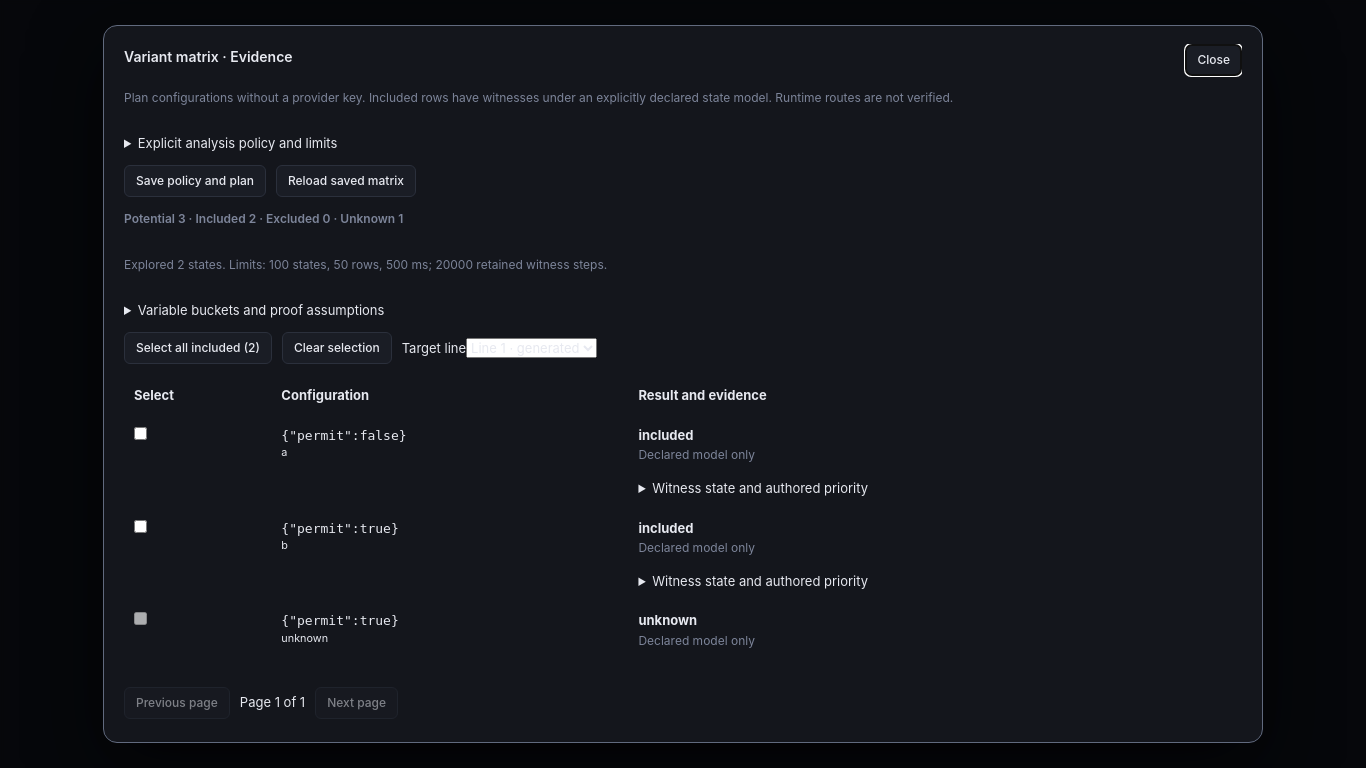
it: keeps a source conflict visible and never prepares generation after failed materialization
The image size is (1366, 768).
Click the button "Select all included (2)": coordinates (198, 348) [124,332,272,364]
(page scrolled)
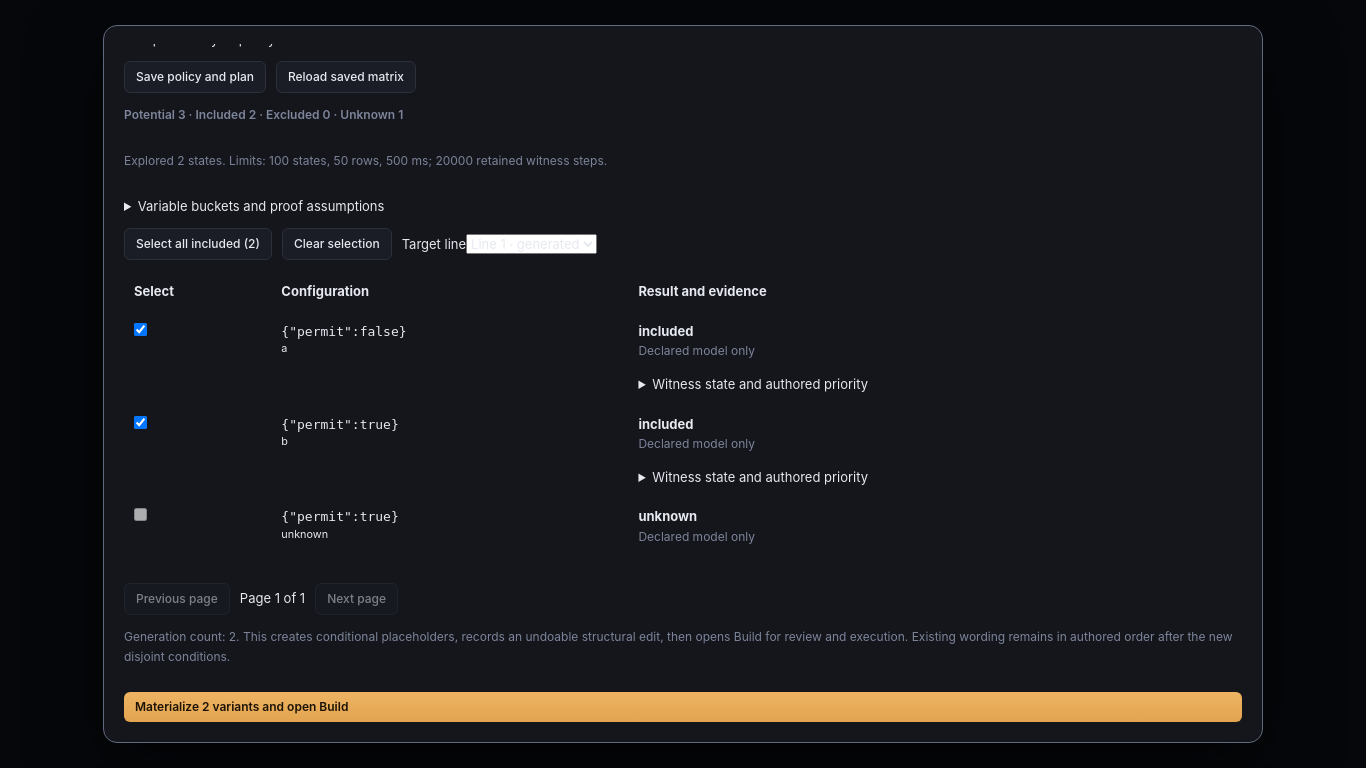
Click the button "Materialize 2 variants and open Build": coordinates (169, 707) [124,692,1242,722]
(page scrolled)
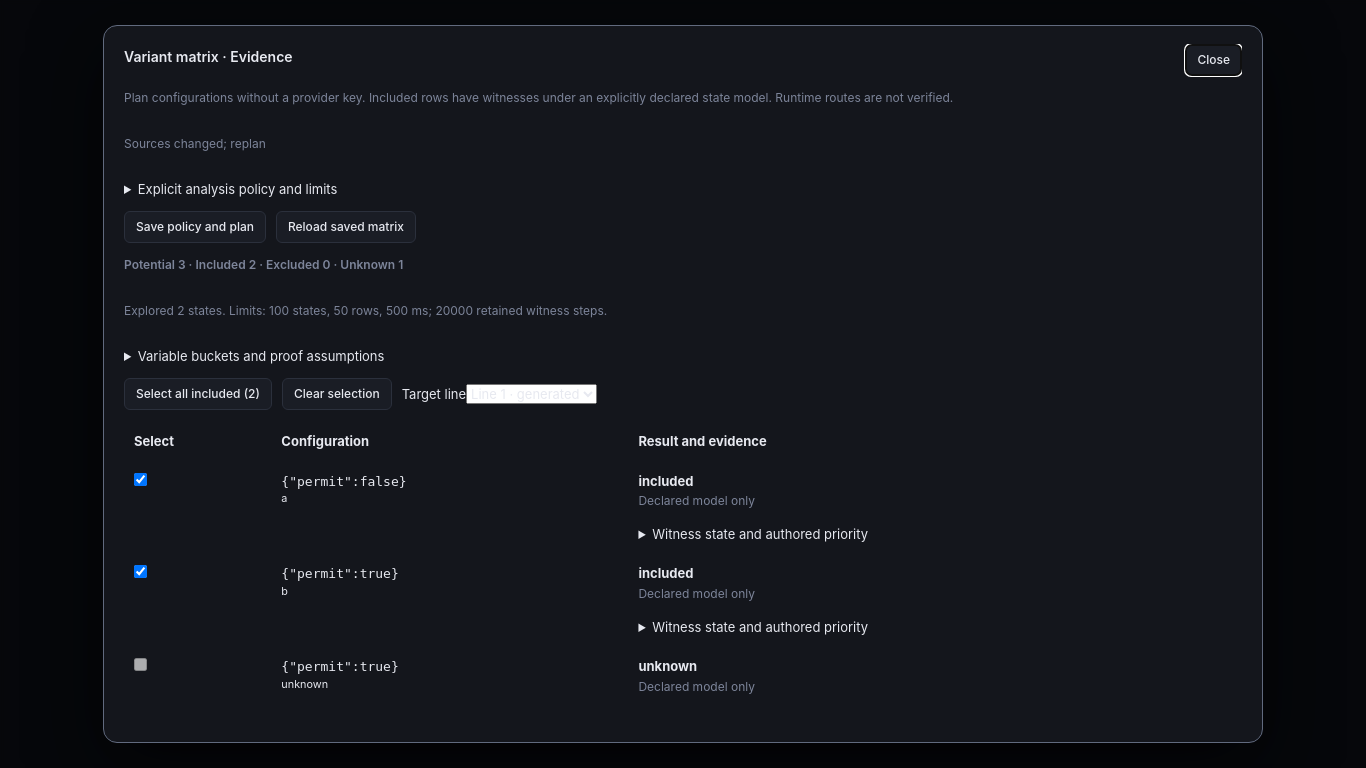
Result: the message reads "Sources changed; replan" at [124,136,266,151]
